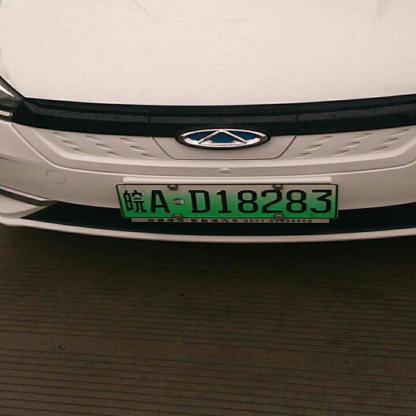lp: (115, 184, 336, 216)
